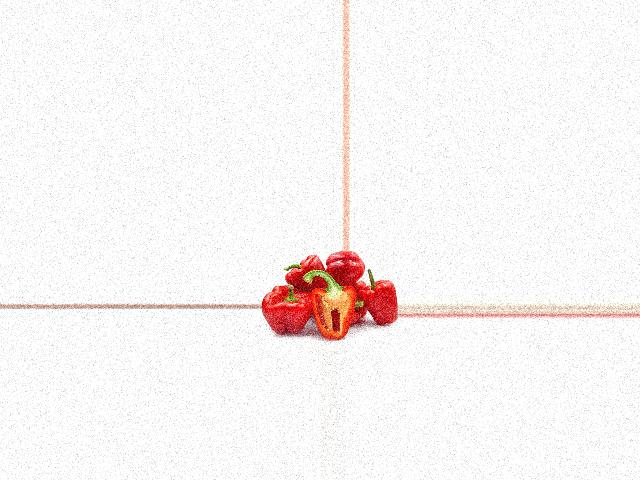bell_pepper: (283, 254, 326, 288)
